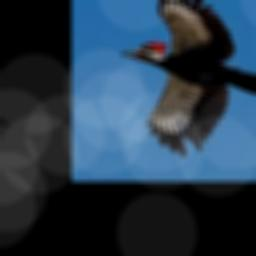Woodpecker: (119, 0, 256, 157)
